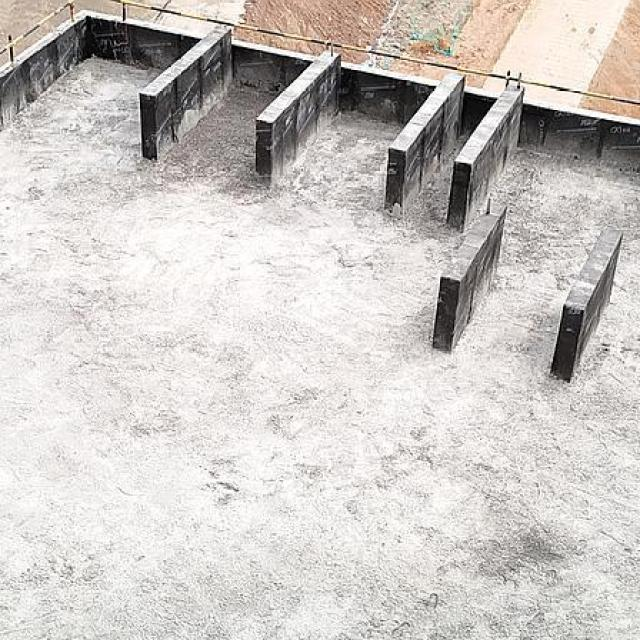edge_guardrail: (113, 0, 640, 107), (0, 0, 77, 63)
